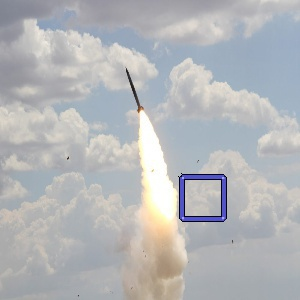square: (178, 174, 228, 222)
